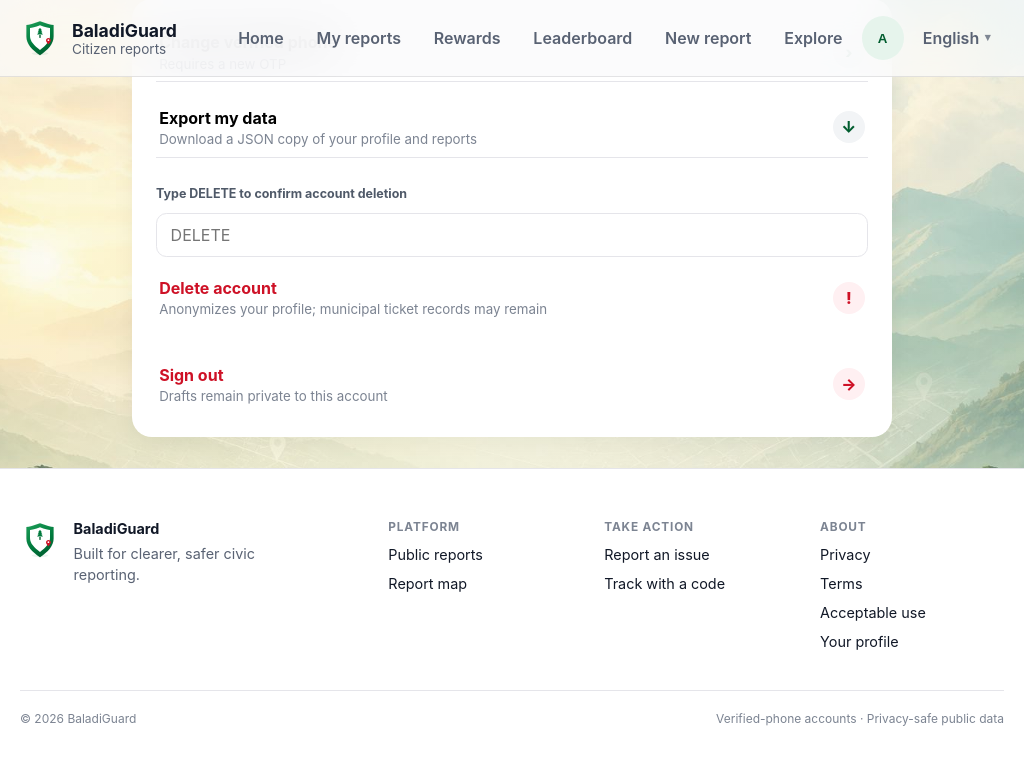
it: issue #314 production-readiness › treats the logout draft prompt as a modal that Escape dismisses
(page scrolled)
Click the button "Sign out Drafts remain private to this account →": (191, 374) [156,355,868,413]
(page scrolled)
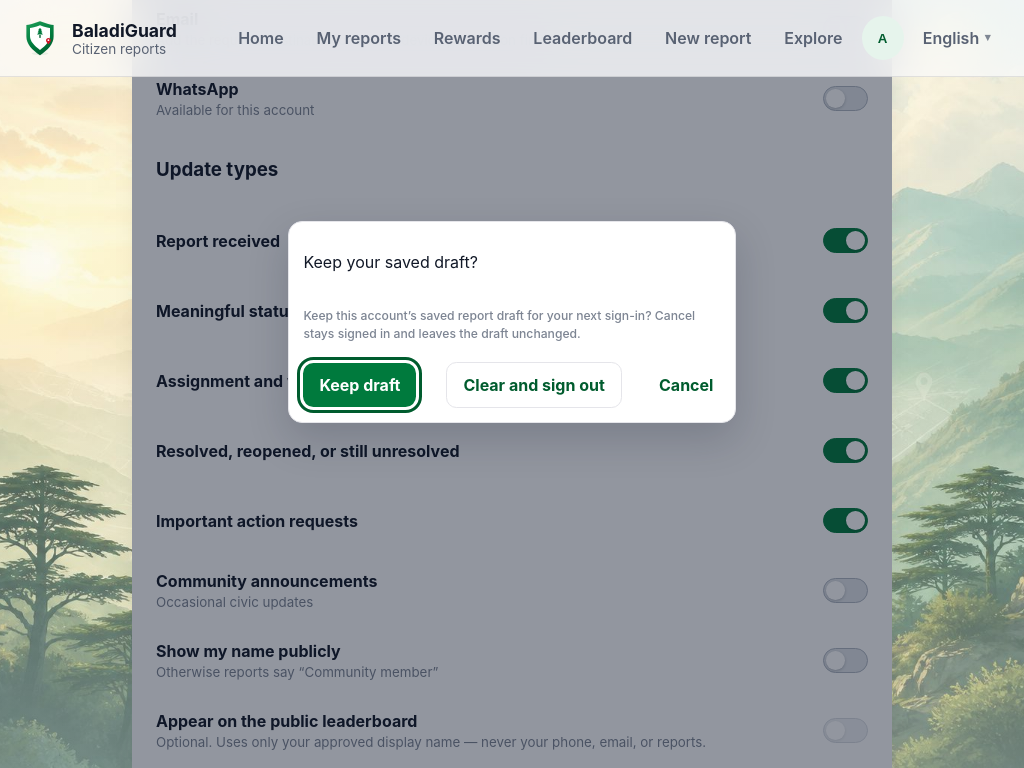
expect the dialog shows "Keep your saved draft?": met, box [303,252,478,272]
Press Escape
(page scrolled)
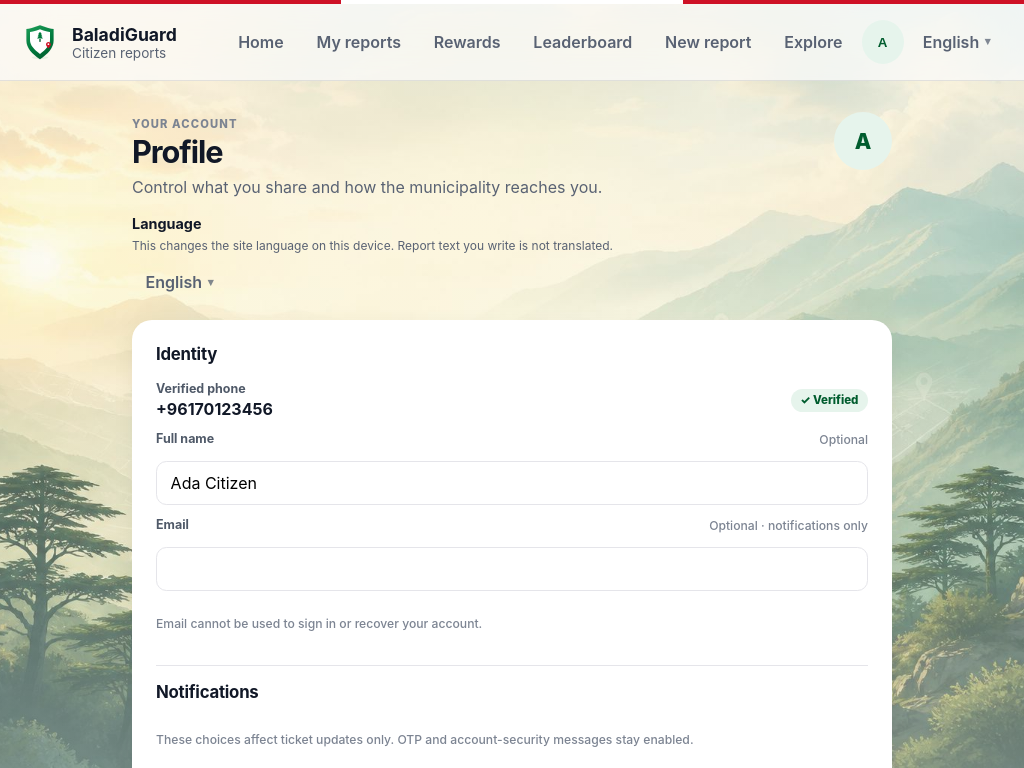
expect the heading "Profile" is shown: met, box [132,133,222,170]
expect the dialog is gone: met
